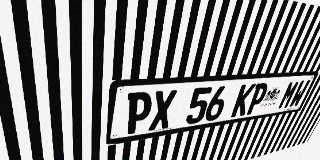5: (185, 87, 213, 125)
6: (203, 85, 230, 122)
K: (230, 84, 256, 118)
M: (277, 80, 301, 110)
P: (124, 91, 154, 135), (245, 83, 270, 115)
W: (288, 80, 311, 108)
X: (148, 89, 177, 131)
